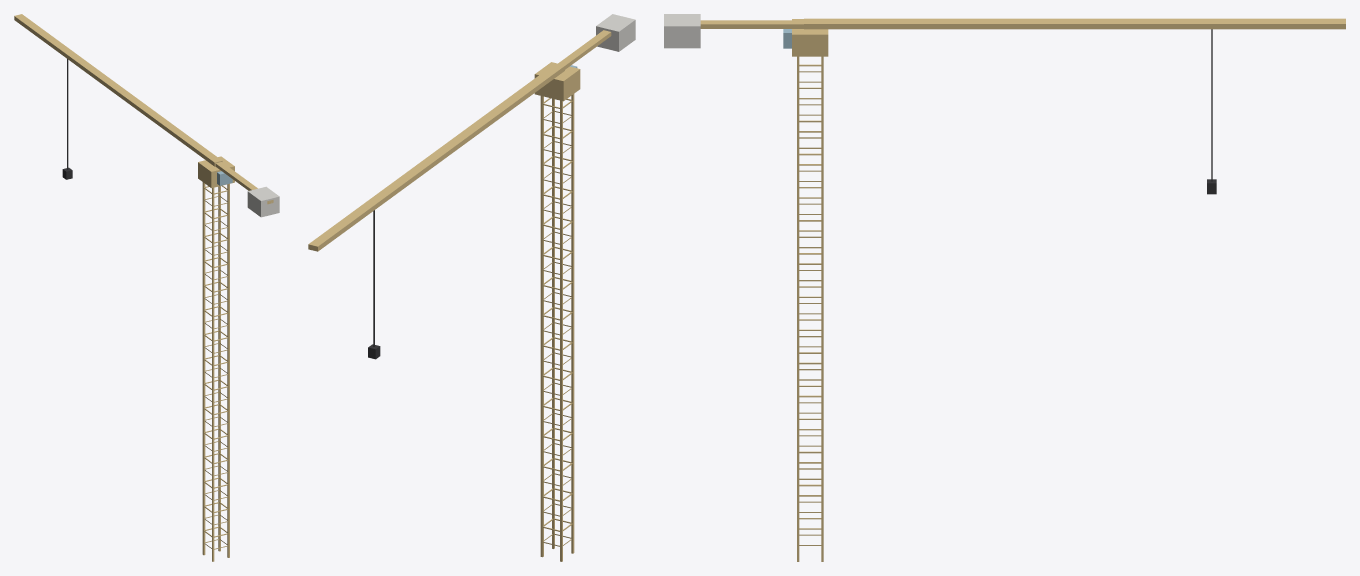
File: E6-6_grua.fbx
3 renders of one model, left to right at view 1: azimuth 30°, elevation 25°; view 2: azimuth 150°, elevation 25°; view 3: azimuth 270°, elevation 25°, orthographic. The views are drawn at different scales.
Visible parts, largest first — view 1: E6-6_grua; view 2: E6-6_grua; view 3: E6-6_grua.
Part boxes in pixels (x1,y1,x2,y2): E6-6_grua: (14, 14, 279, 561); E6-6_grua: (308, 14, 635, 561); E6-6_grua: (664, 14, 1345, 561).
Bounding box in the file's own units: 3 × 48.6 × 56.
